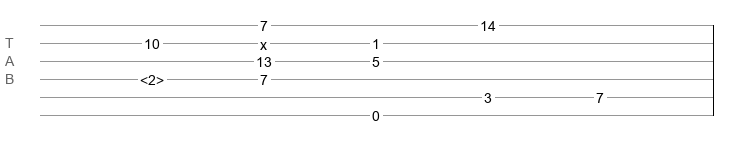0: (372, 108, 380, 118)
1: (372, 36, 380, 46)
10: (144, 36, 160, 46)
13: (256, 54, 272, 64)
14: (480, 18, 496, 28)
3: (484, 90, 492, 100)
5: (372, 54, 380, 64)
7: (260, 72, 268, 82), (260, 18, 268, 28), (596, 90, 604, 100)
harmonic: (140, 72, 164, 82)
x: (260, 37, 267, 45)
